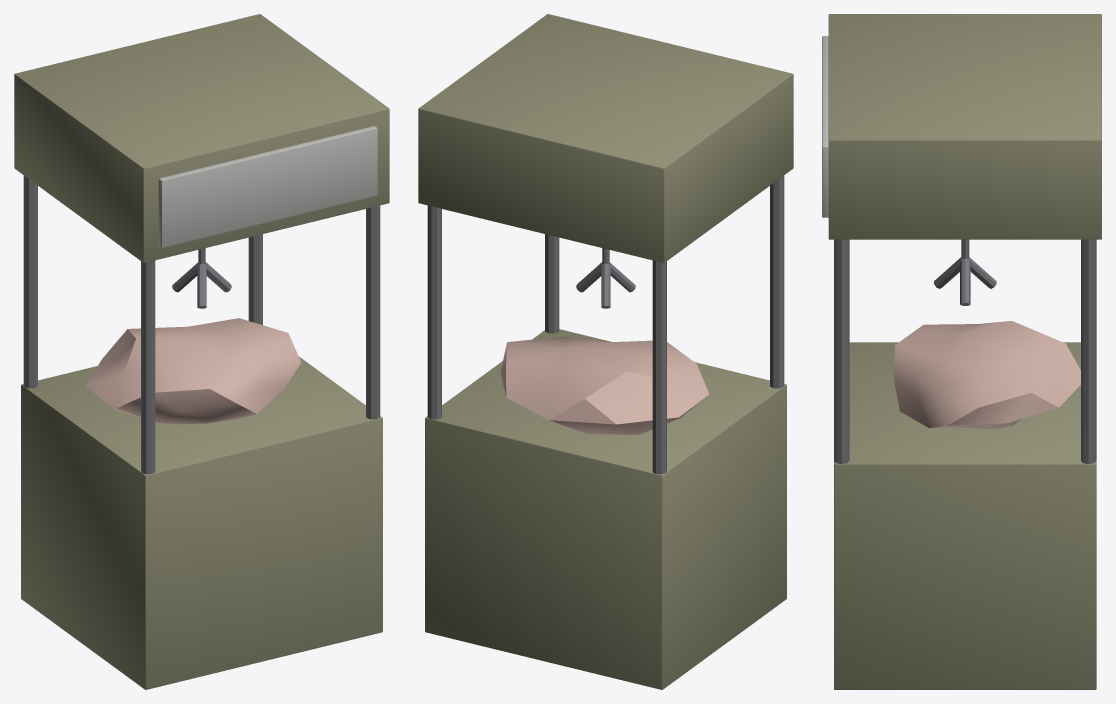
Rendered from perk_scavenger.gltf.
3 views of the same model, side by side, from view 1: azimuth 30°, elevation 25°; view 2: azimuth 150°, elevation 25°; view 3: azimuth 270°, elevation 25° (orthographic). The views are drawn at different scales.
Parts seen in each view (by area): view 1: Body, Glow; view 2: Body; view 3: Body, Glow.
Boxes of the visible parts, box(x1,y1,x2,y2) form: Body: box(14, 14, 389, 689); Glow: box(158, 126, 377, 247); Body: box(418, 14, 793, 689); Body: box(828, 14, 1101, 689); Glow: box(822, 36, 828, 217).
Bounding box in the file's own units: 1.14 × 2.32 × 1.06.
